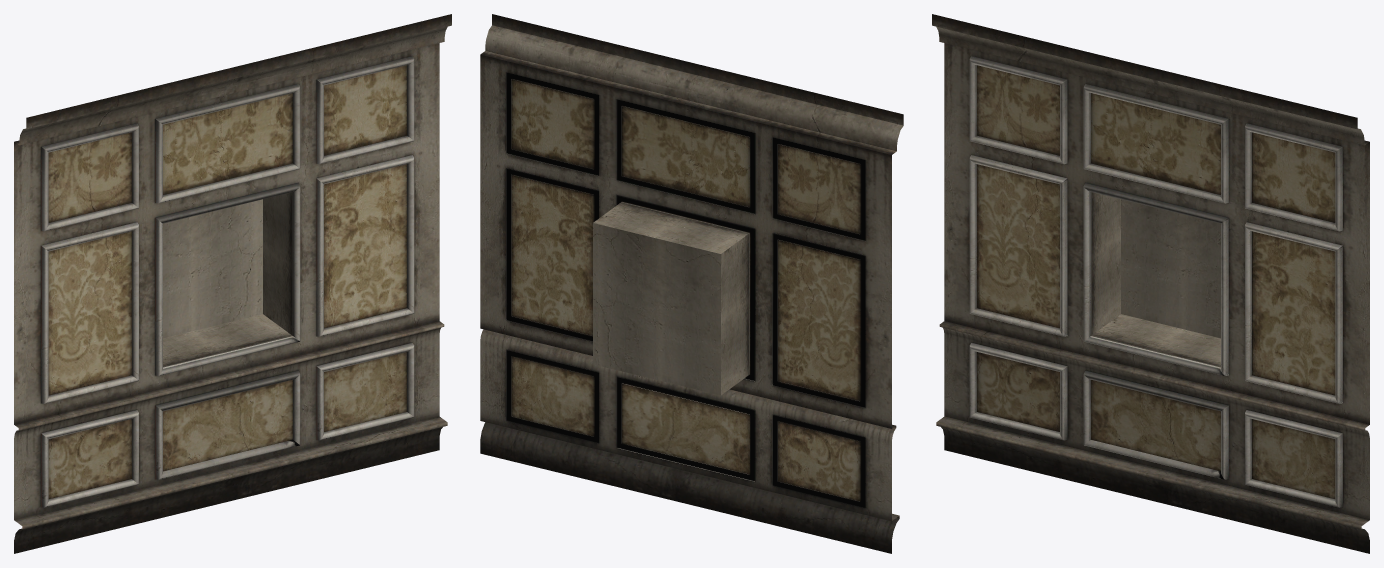
File: default_secret.dae
3 renders of one model, left to right at view 1: azimuth 30°, elevation 25°; view 2: azimuth 150°, elevation 25°; view 3: azimuth 330°, elevation 25°, orthographic. The views are drawn at different scales.
Parts seen in each view (by area): view 1: mansionbase_default; view 2: mansionbase_default; view 3: mansionbase_default.
Part boxes in pixels (box(x1,y1,x2,y2)): mansionbase_default: box(14, 14, 451, 553); mansionbase_default: box(480, 14, 903, 553); mansionbase_default: box(932, 14, 1369, 553).
Size of the model in its own units: 4 by 4 by 0.69.
